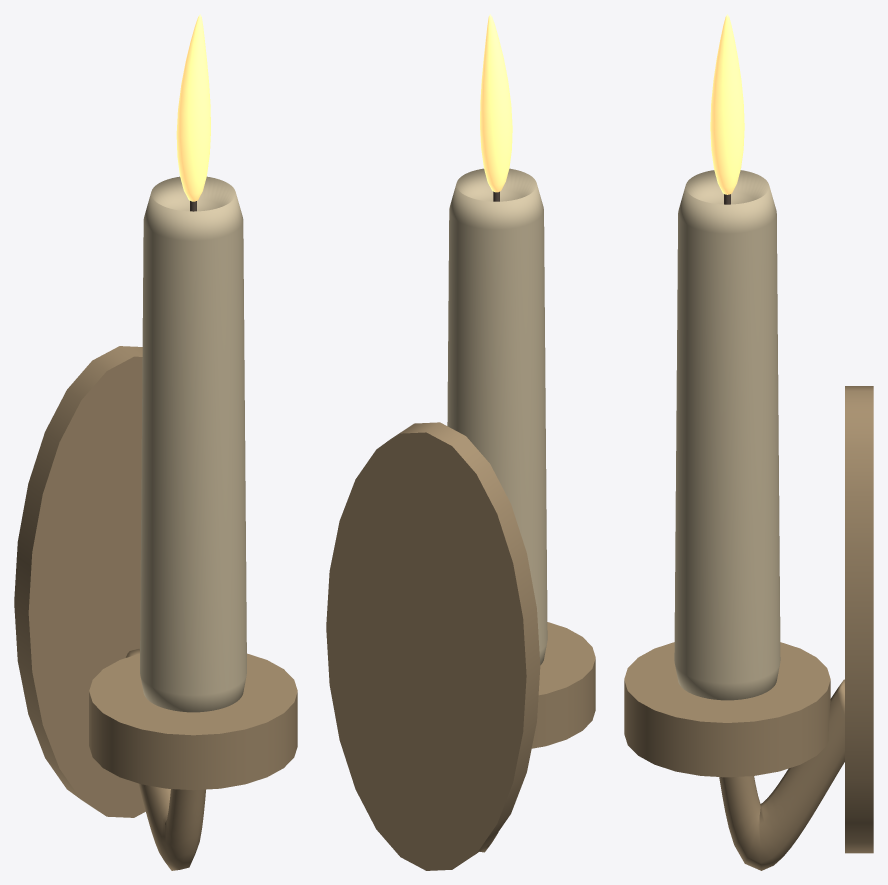
File: sconce.glb
The picture shows the model from 3 angles, left to right: view 1: azimuth 30°, elevation 25°; view 2: azimuth 150°, elevation 25°; view 3: azimuth 270°, elevation 25°; orthographic projection. The views are drawn at different scales.
Parts seen in each view (by area): view 1: sconce-candle-wax-body, sconce-wall-plate, candle-cup, sconce-candle-flame, receiving-sconce-arm; view 2: sconce-wall-plate, sconce-candle-wax-body, candle-cup, sconce-candle-flame; view 3: sconce-candle-wax-body, candle-cup, sconce-wall-plate, receiving-sconce-arm, sconce-candle-flame.
Part boxes in pixels (box(x1,y1,x2,y2)): sconce-candle-wax-body: box(140, 176, 246, 712); sconce-wall-plate: box(14, 346, 145, 817); candle-cup: box(89, 653, 297, 790); sconce-candle-flame: box(176, 14, 210, 201); receiving-sconce-arm: box(126, 649, 205, 870); sconce-wall-plate: box(326, 422, 540, 870); sconce-candle-wax-body: box(447, 168, 547, 665); candle-cup: box(531, 622, 595, 748); sconce-candle-flame: box(480, 14, 512, 192); sconce-candle-wax-body: box(674, 170, 780, 700); candle-cup: box(624, 642, 830, 777); sconce-wall-plate: box(845, 386, 873, 853); receiving-sconce-arm: box(719, 679, 844, 870); sconce-candle-flame: box(710, 14, 744, 194).
Bounding box in the file's own units: 0.21 × 0.825 × 0.2175.
